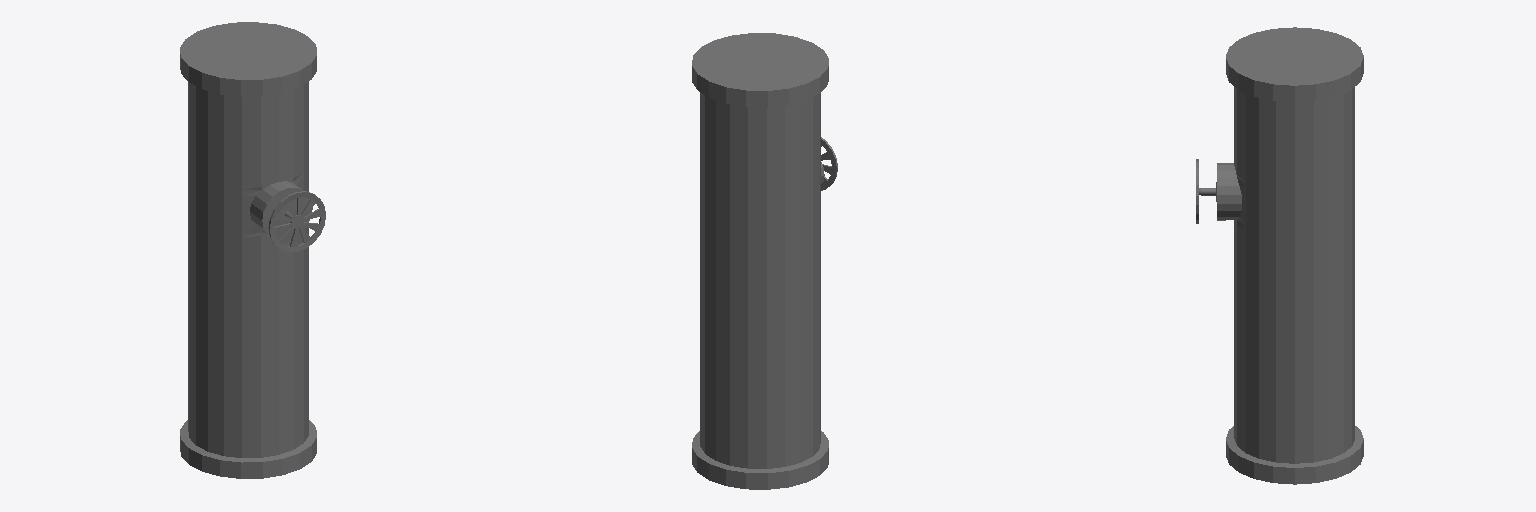
The model's file is SmallPipeValve.obj.
3 views of the same model, side by side, from view 1: azimuth 30°, elevation 25°; view 2: azimuth 150°, elevation 25°; view 3: azimuth 270°, elevation 25° (orthographic).
Parts seen in each view (by area): view 1: SmallPipeValve; view 2: SmallPipeValve; view 3: SmallPipeValve.
Part boxes in pixels (x1,y1,x2,y2): SmallPipeValve: (180,22,325,478); SmallPipeValve: (692,33,837,489); SmallPipeValve: (1196,27,1363,484).
Bounding box in the file's own units: 2.28 × 7.26 × 2.77.